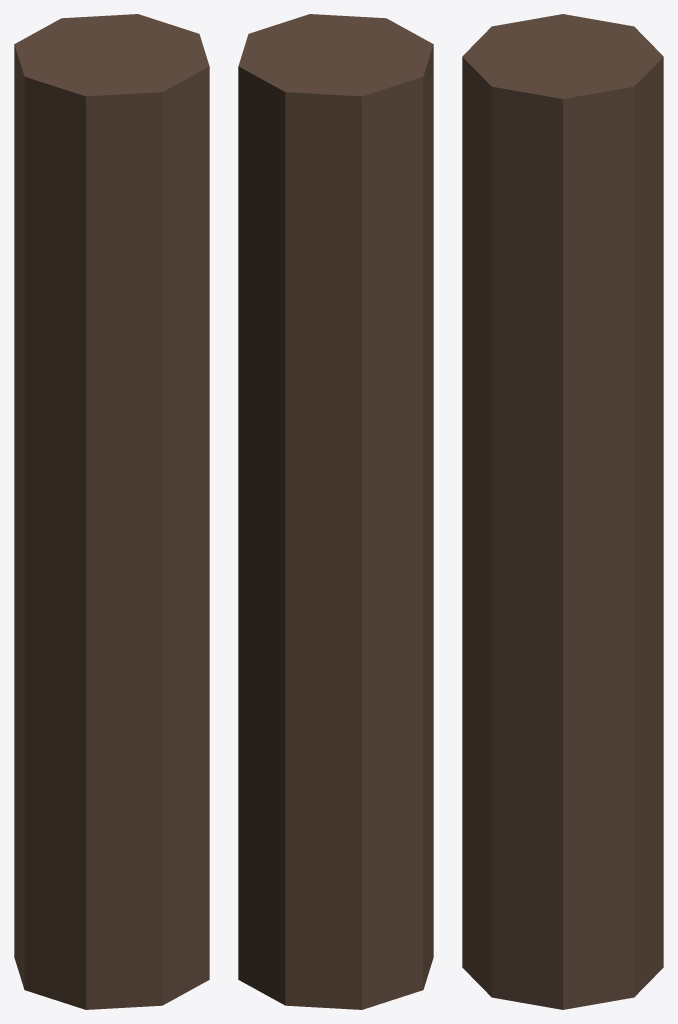
The model's file is dynamite.obj.
3 renders of one model, left to right at view 1: azimuth 30°, elevation 25°; view 2: azimuth 150°, elevation 25°; view 3: azimuth 270°, elevation 25°, orthographic.
Parts seen in each view (by area): view 1: product-7d36ec31-4544-4ad0-9212-a30d916c9108-body; view 2: product-7d36ec31-4544-4ad0-9212-a30d916c9108-body; view 3: product-7d36ec31-4544-4ad0-9212-a30d916c9108-body.
Boxes of the visible parts, bbox=[...] form: product-7d36ec31-4544-4ad0-9212-a30d916c9108-body: bbox=[14, 14, 209, 1009]; product-7d36ec31-4544-4ad0-9212-a30d916c9108-body: bbox=[238, 14, 433, 1009]; product-7d36ec31-4544-4ad0-9212-a30d916c9108-body: bbox=[462, 14, 663, 1009].
Size of the model in its own units: 0.0262 by 0.1309 by 0.0262.
